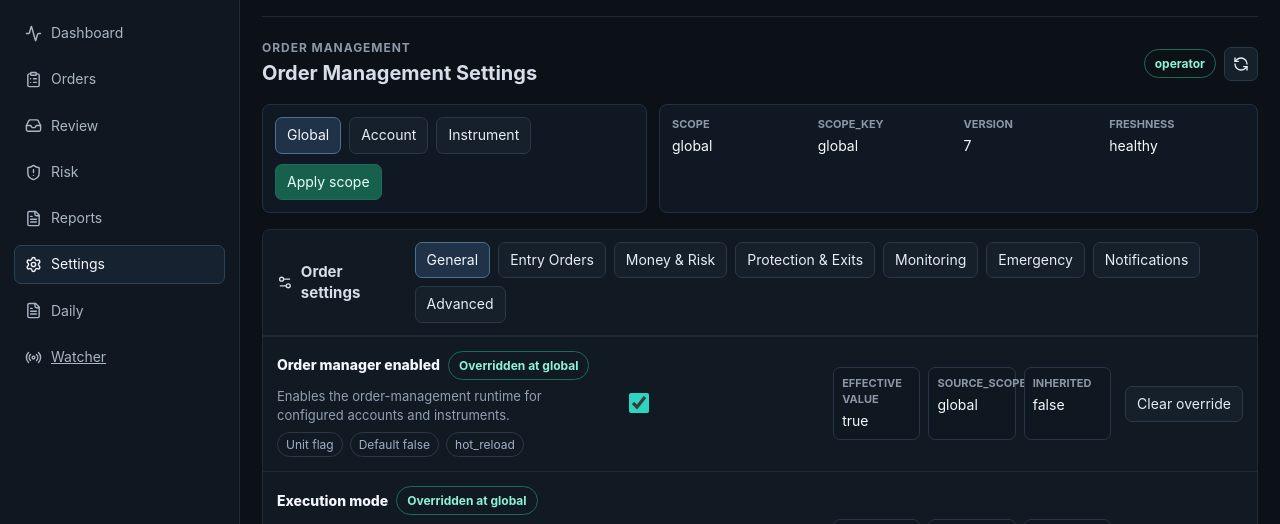
Test: order management settings › renders General and Entry fields from metadata with correct controls and interlocks
Click the tab "Entry Orders" at (552, 260), box [498, 242, 606, 278]
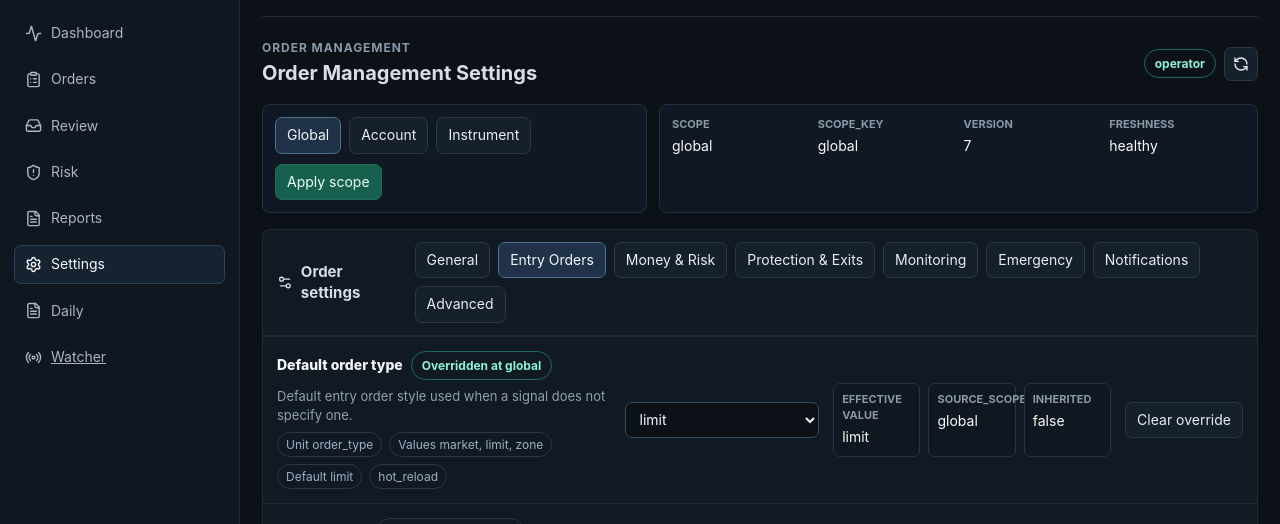
Select "market" in the dropdown labelled "Default order type" at (722, 420), box [625, 402, 819, 438]
(page scrolled)
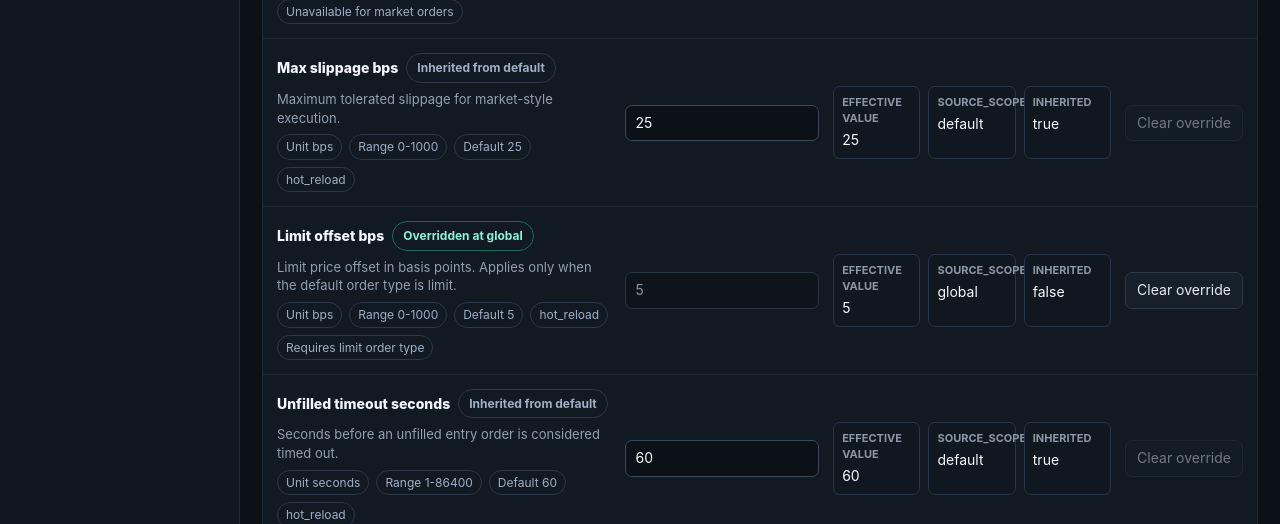
Expected: the number field labelled "Limit offset bps" is disabled, [625, 272, 819, 309]
